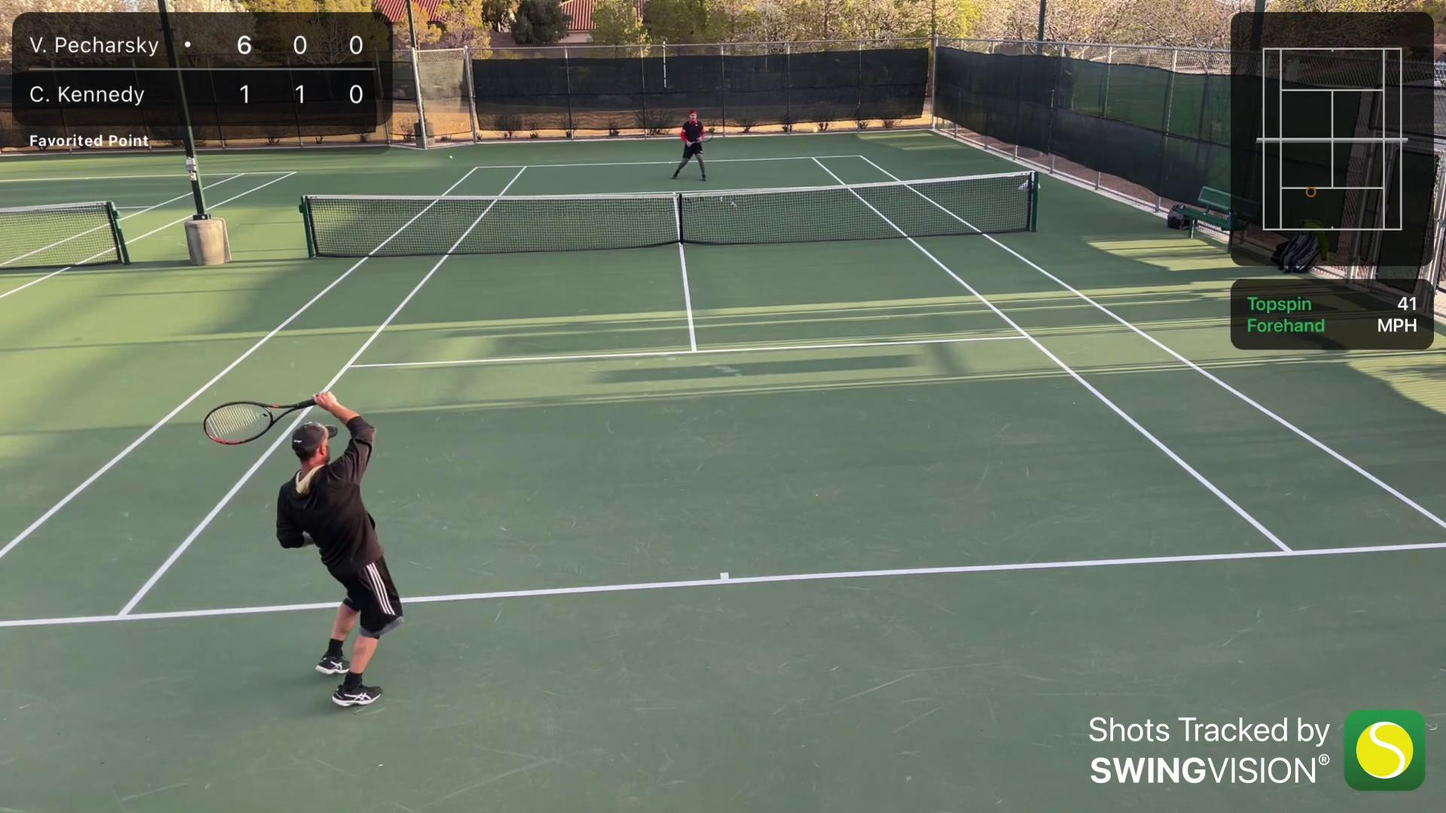ball: (813, 126, 822, 132), (448, 155, 452, 160)
